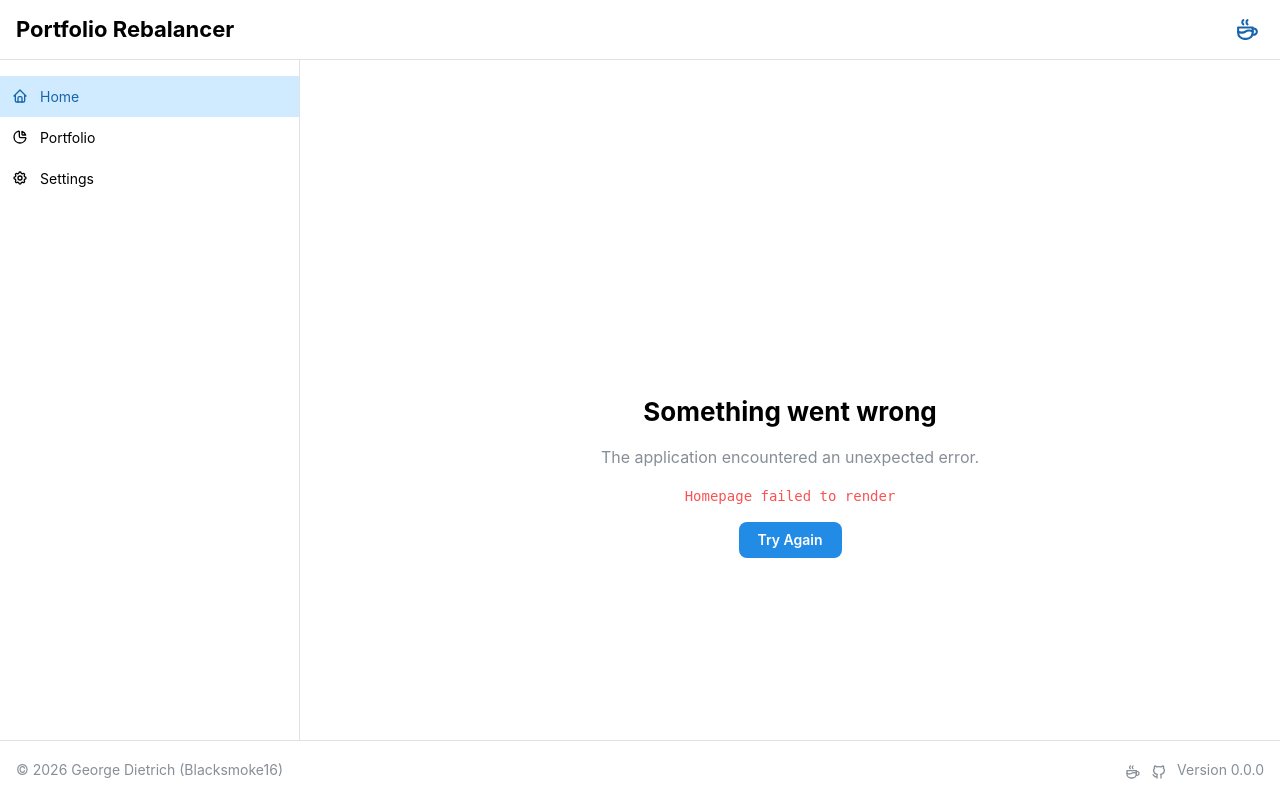
Scenario: AppContent › keeps the navigation usable when a page fails to render
Expected: the heading "Something went wrong" is shown, [643,394,937,429]
Click the link "Portfolio" at {"x": 54, "y": 137}, box [12,129,95,146]
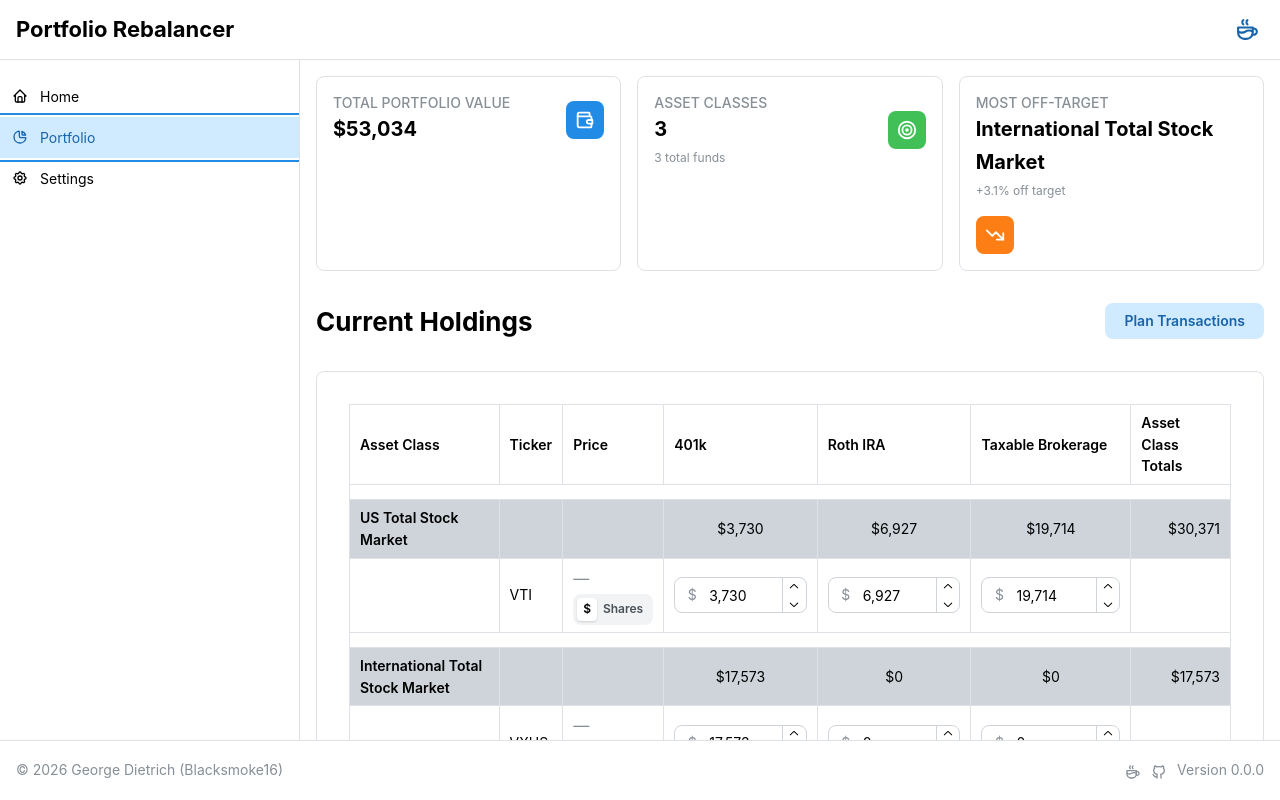
Now the heading "Current Holdings" is shown, box [316,304,532,339]
Now the heading "Something went wrong" is gone
